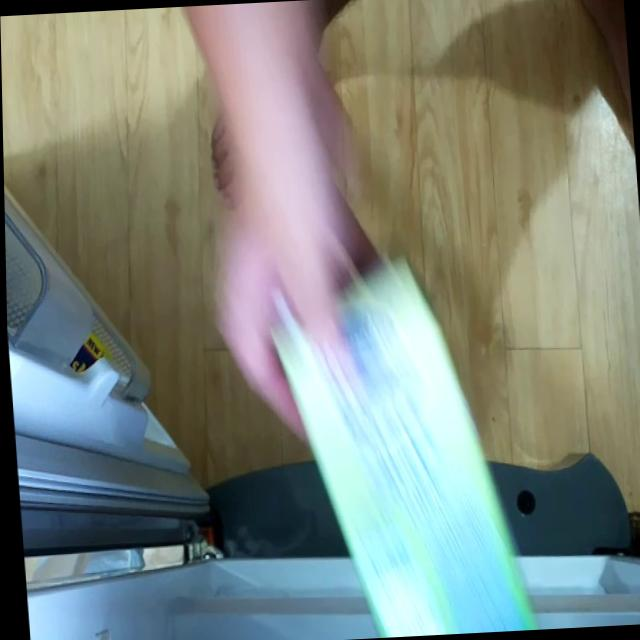milk: (275, 296, 517, 640)
